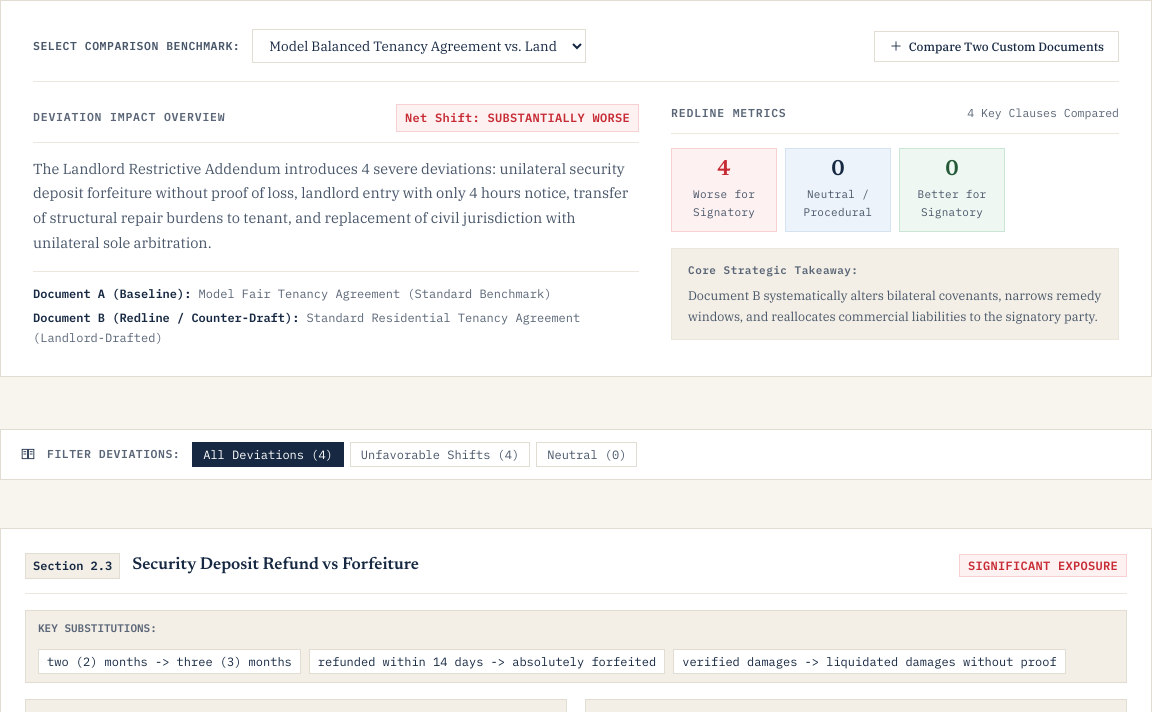
Test: ContractComparator › builds a custom comparison from the demonstration pair
This screenshot has width=1152, height=712.
Click the button "Compare Two Custom Documents" at [996, 46], box [874,30,1119,62]
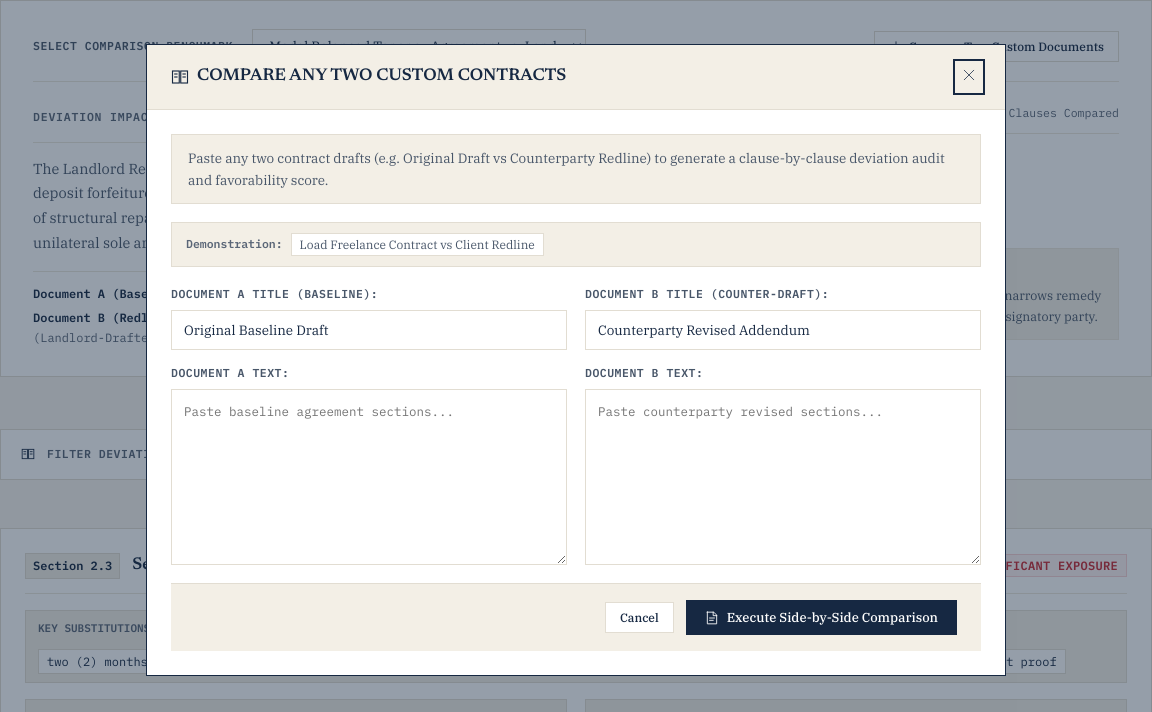
Click the button "Load Freelance Contract vs Client Redline" at [417, 245], box [291,233,544,256]
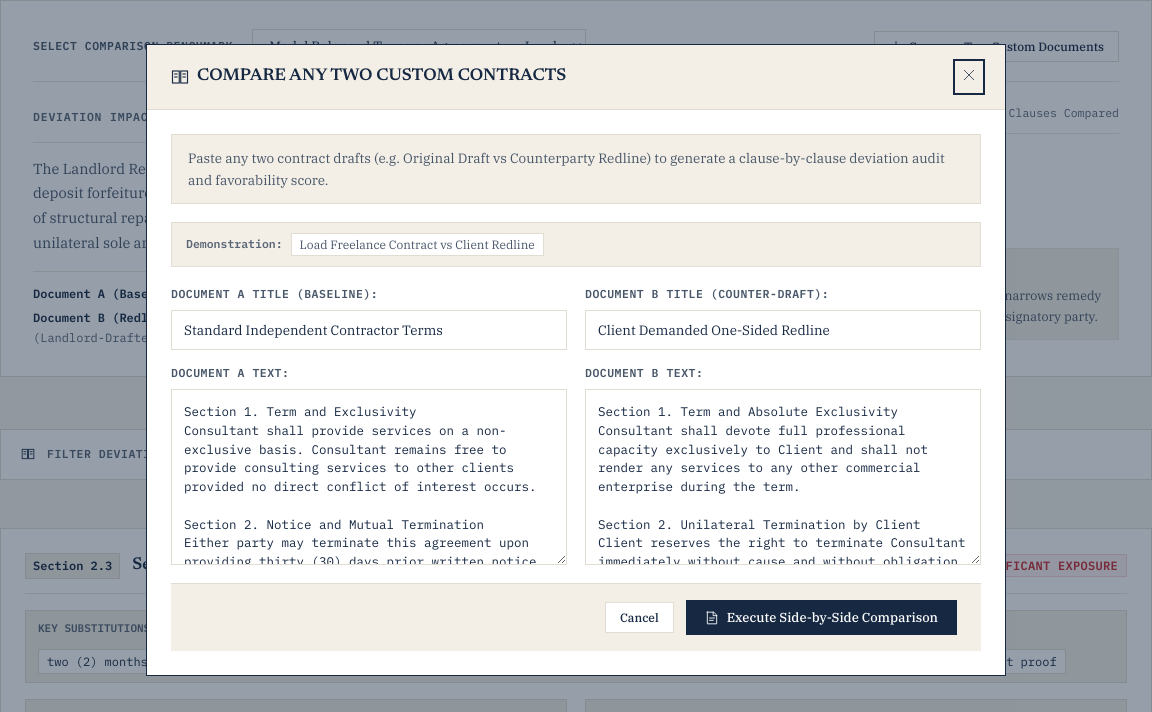
Click the button "Execute Side-by-Side Comparison" at [821, 618], box [686,600,957,635]
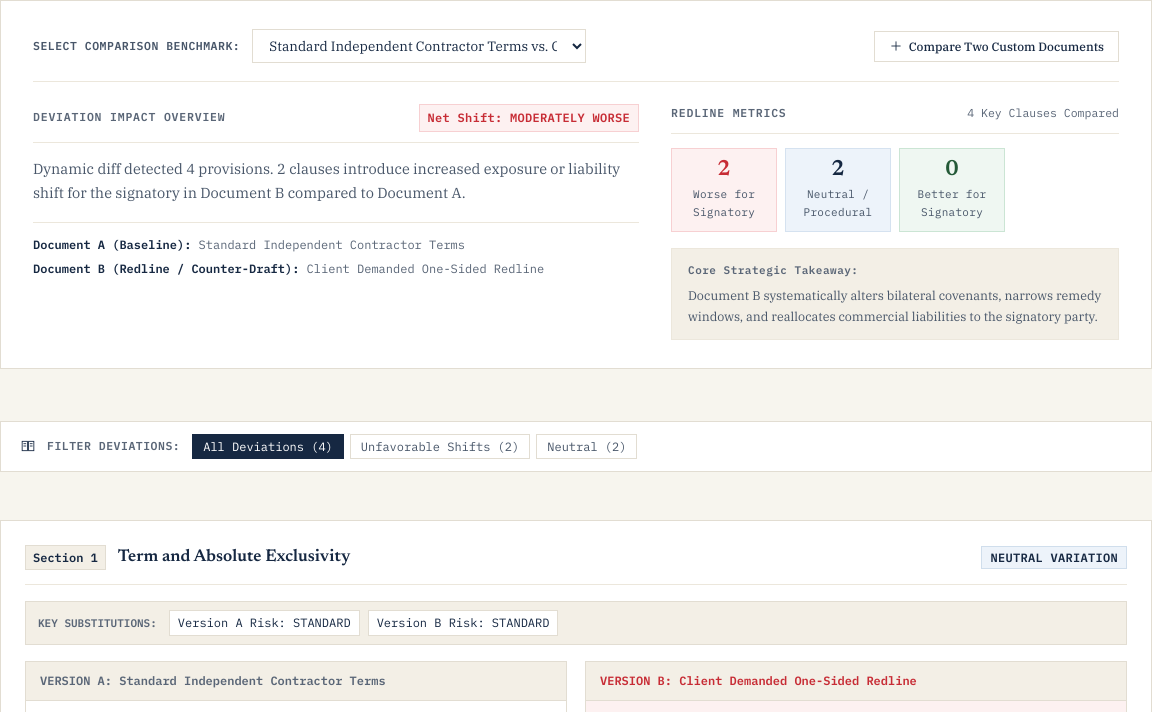
Check: the dialog is gone
